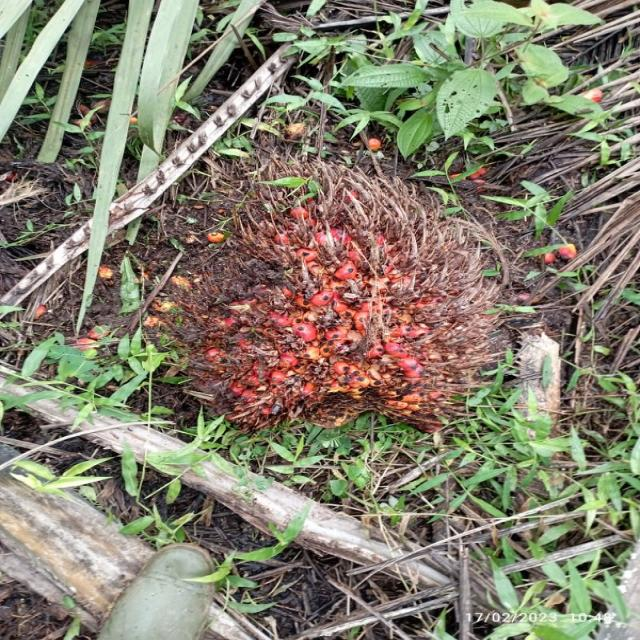fraksi 4: (120, 131, 532, 439)
